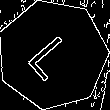L_NE: (23, 26, 82, 82)
